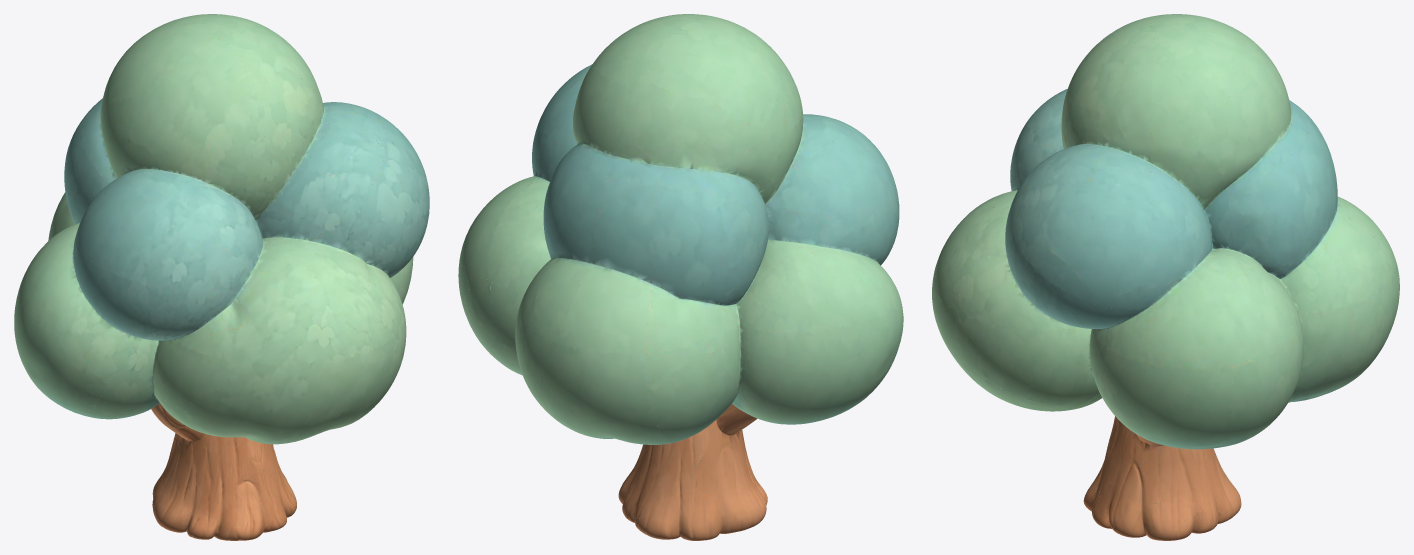
The model's file is tree-low.glb.
3 renders of one model, left to right at view 1: azimuth 30°, elevation 25°; view 2: azimuth 150°, elevation 25°; view 3: azimuth 270°, elevation 25°, orthographic. The views are drawn at different scales.
Parts seen in each view (by area): view 1: Mesh_0; view 2: Mesh_0; view 3: Mesh_0.
Boxes of the visible parts, <box> form: Mesh_0: <box>14,14,429,540</box>; Mesh_0: <box>458,14,903,540</box>; Mesh_0: <box>932,14,1399,540</box>.
Size of the model in its own units: 1.61 by 1.9 by 1.66.
Materials: 1 (1 with a texture image).
